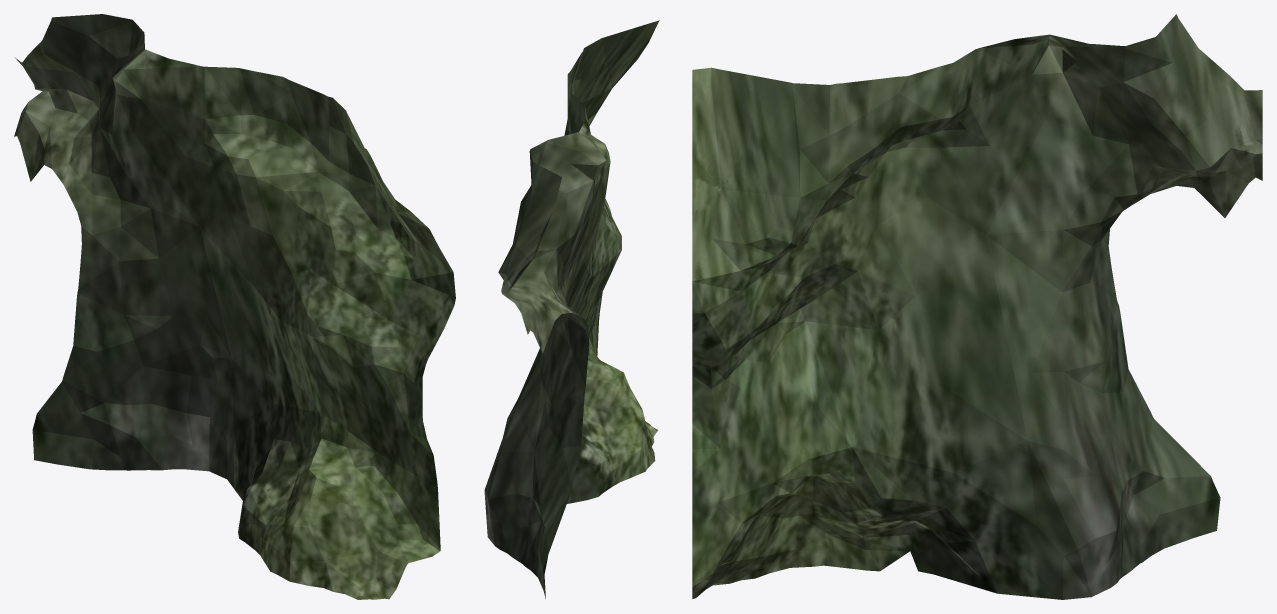
3 views of the same model, side by side, from view 1: azimuth 30°, elevation 25°; view 2: azimuth 150°, elevation 25°; view 3: azimuth 270°, elevation 25° (orthographic). The views are drawn at different scales.
Bounding box in the file's own units: 1.29 × 2.95 × 2.95.
Materials: 3 (3 with a texture image).
